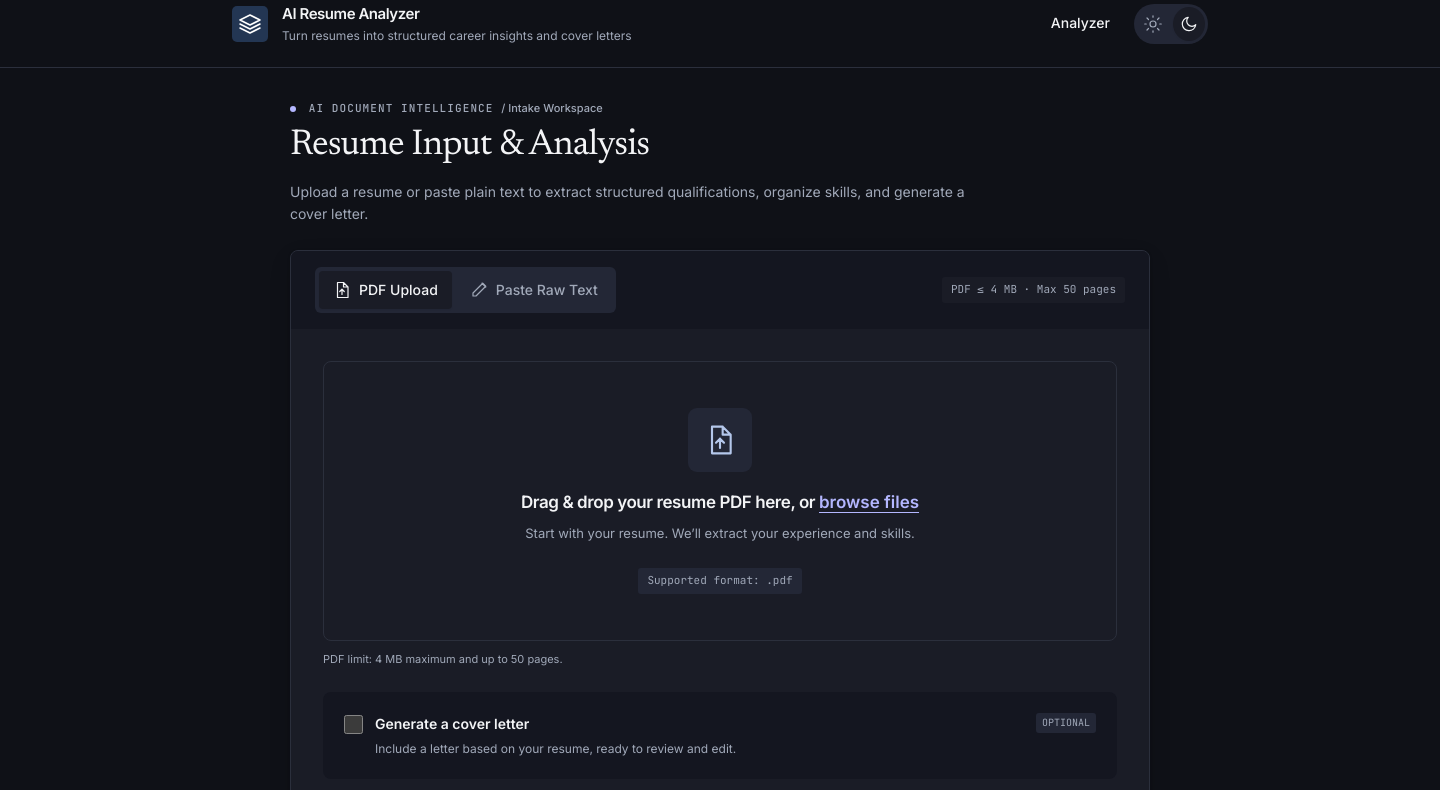
shows a useful message for backend status 400
Click the button with aria-label "paste text" at (534, 290), box 456,271 -> 612,309
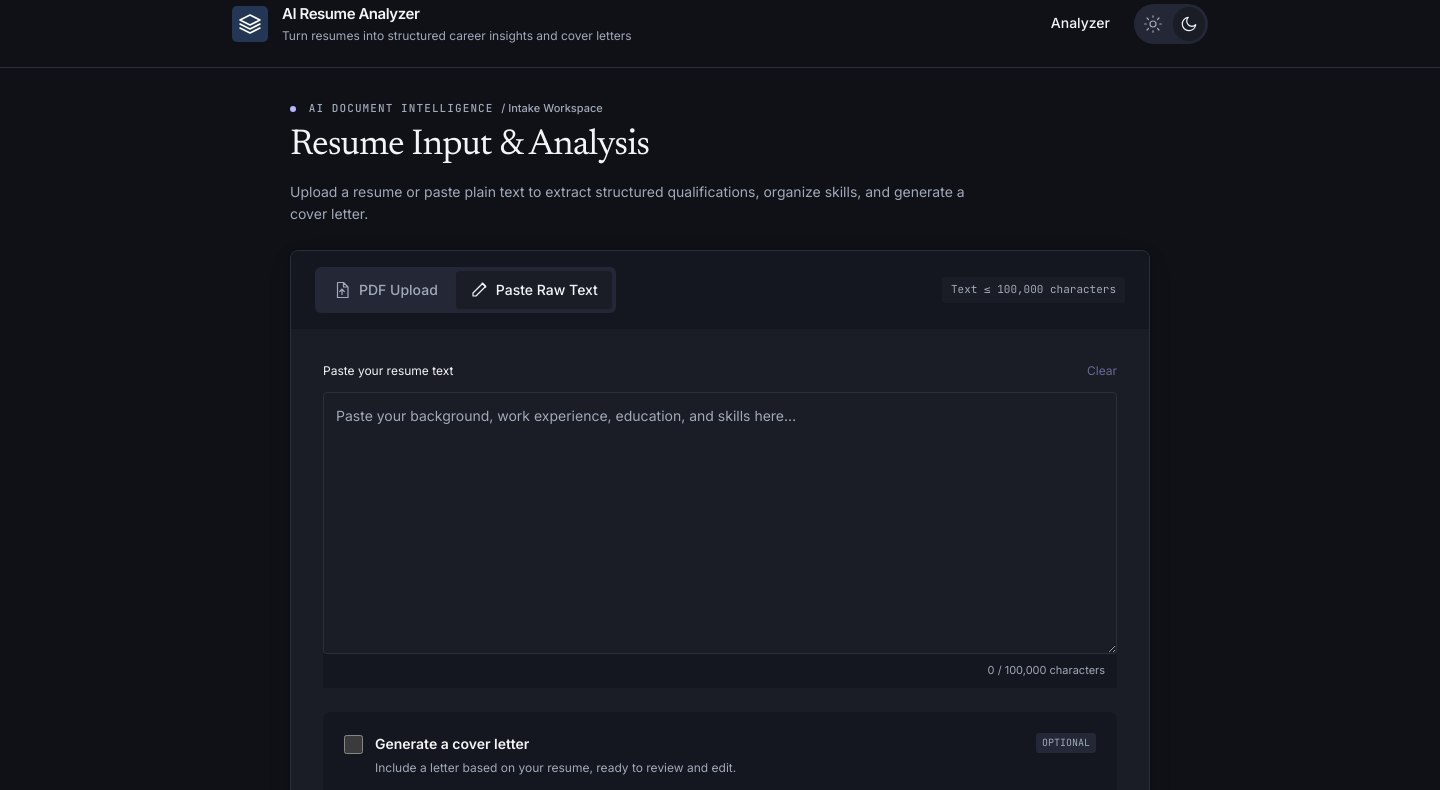
Replace the text in the text box labelled "Paste your resume text" with "Resume content" at (720, 523), box 323,392 -> 1117,654
(page scrolled)
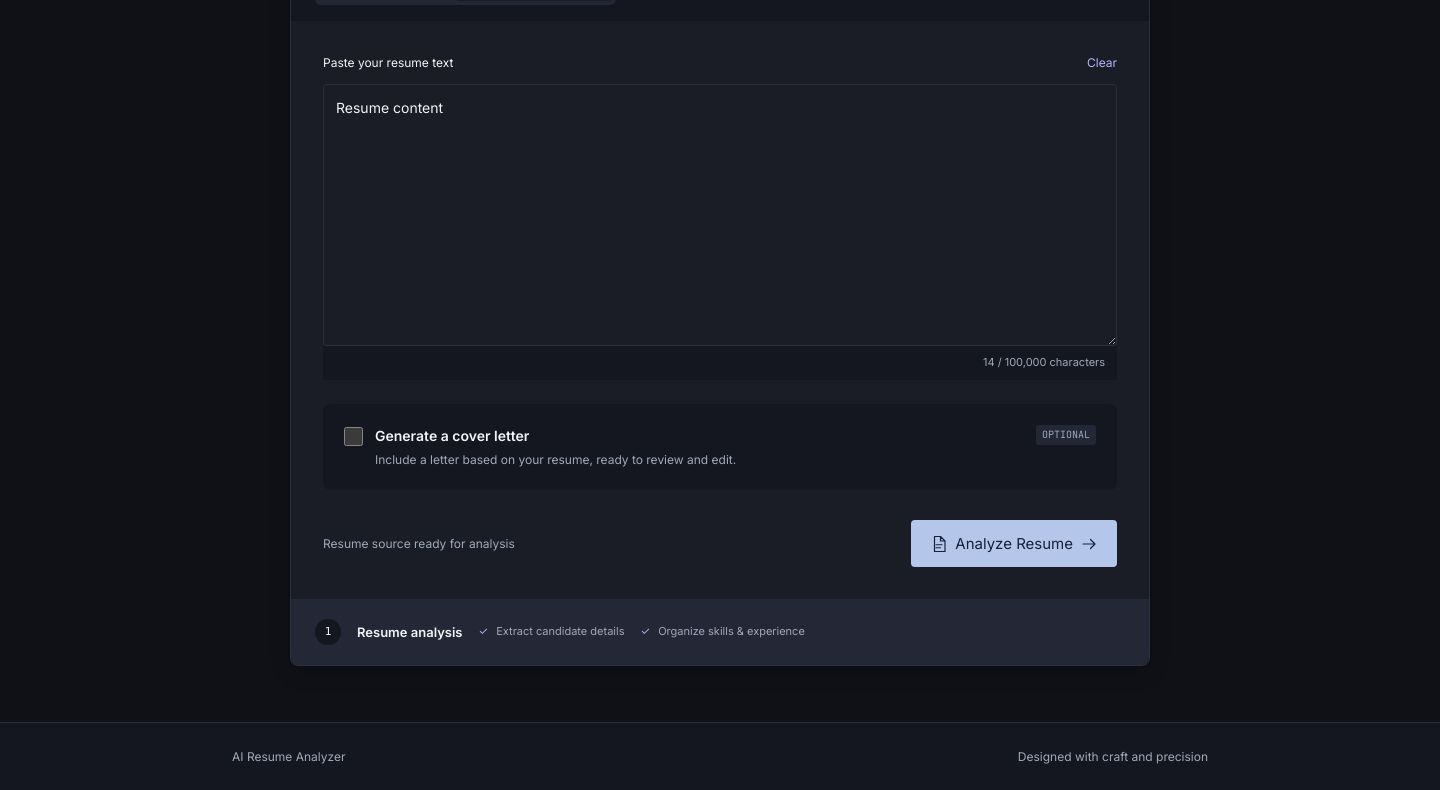
Click the button "Analyze Resume" at (1014, 544), box 911,520 -> 1117,567
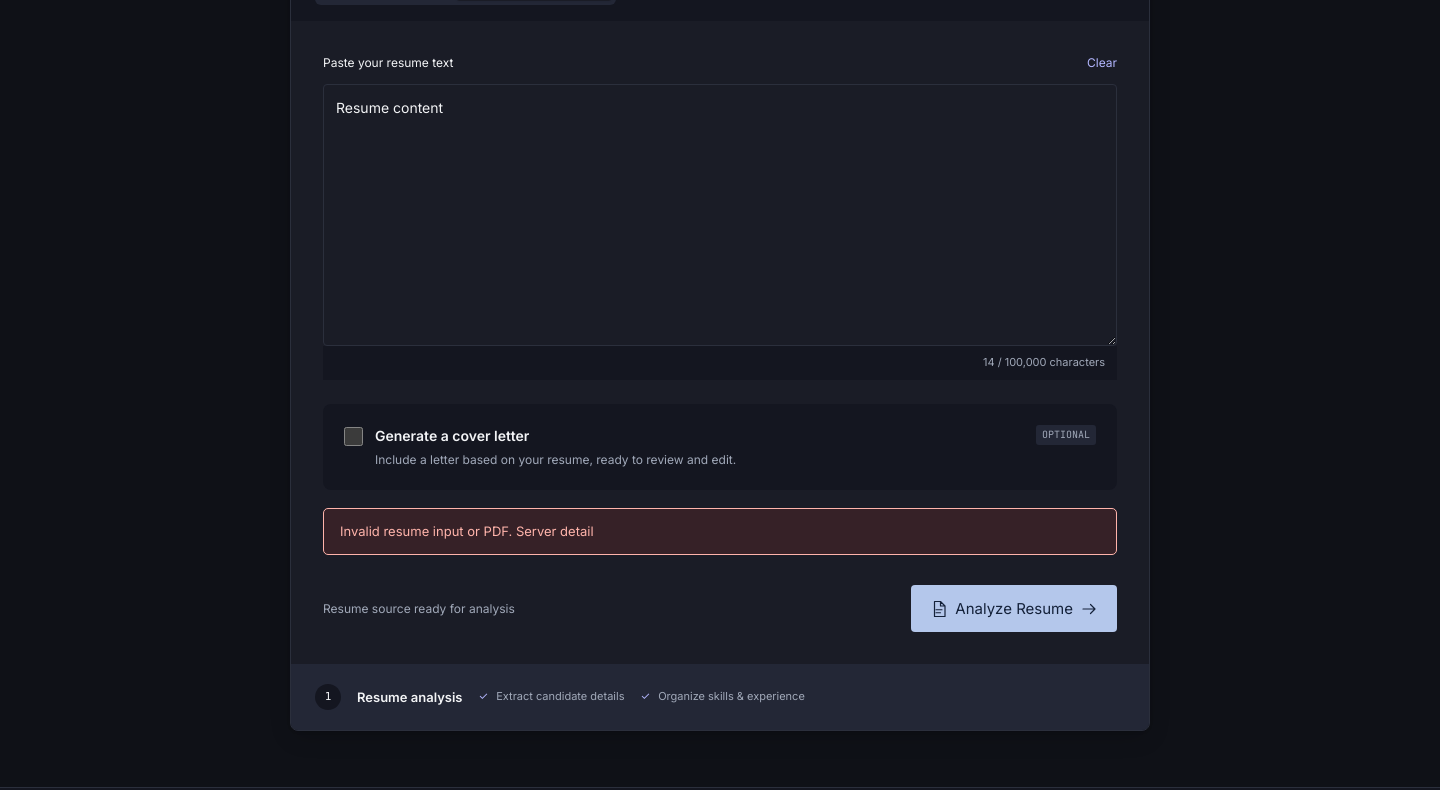
Expected: the button "Analyze Resume" is enabled, 911,585 -> 1117,632
Expected: the message "Invalid resume input or PDF. Server detail" is shown, 323,508 -> 1117,555
